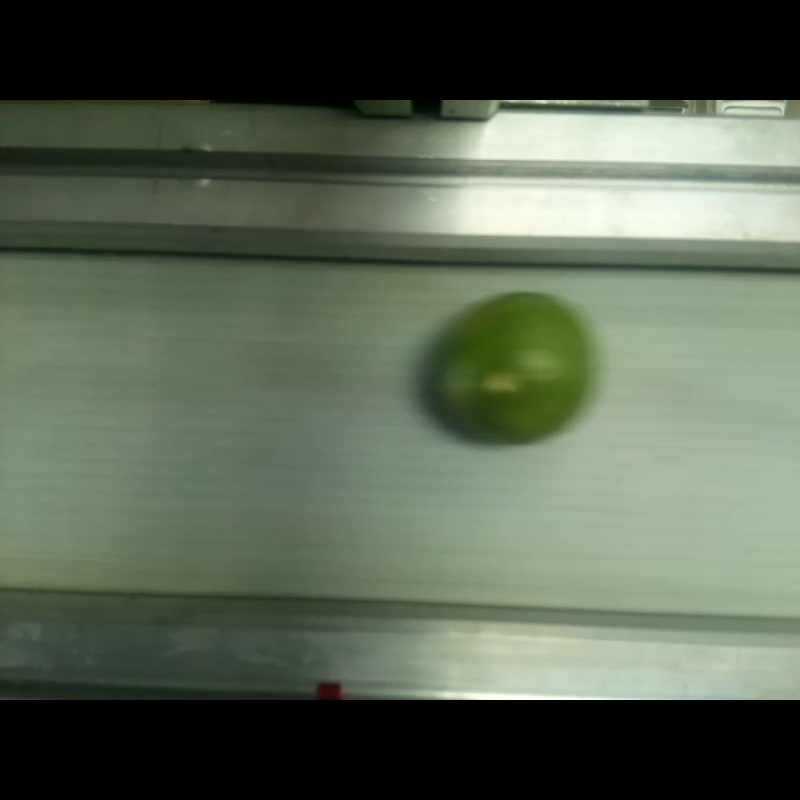lime: (428, 292, 588, 442)
